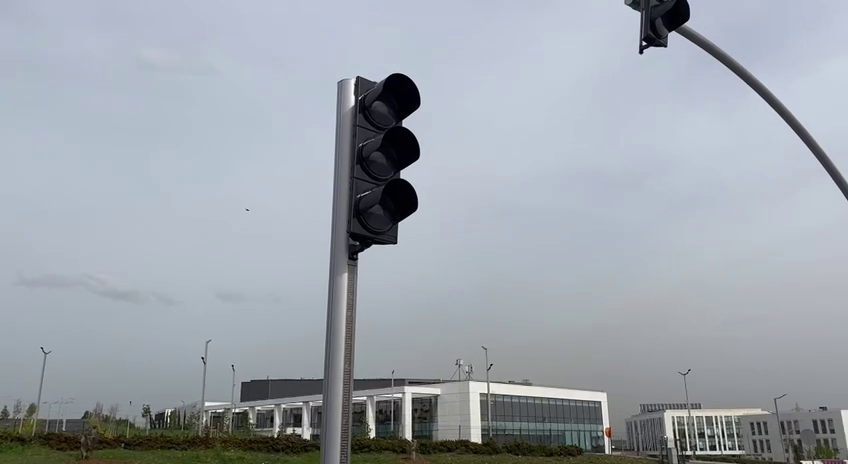trafficLight: (333, 69, 423, 253), (633, 1, 694, 56)
